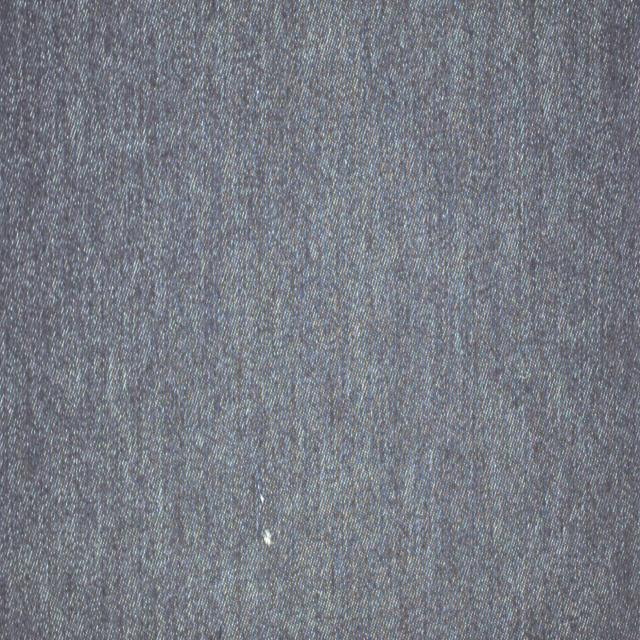Knot: (255, 468, 274, 548)
